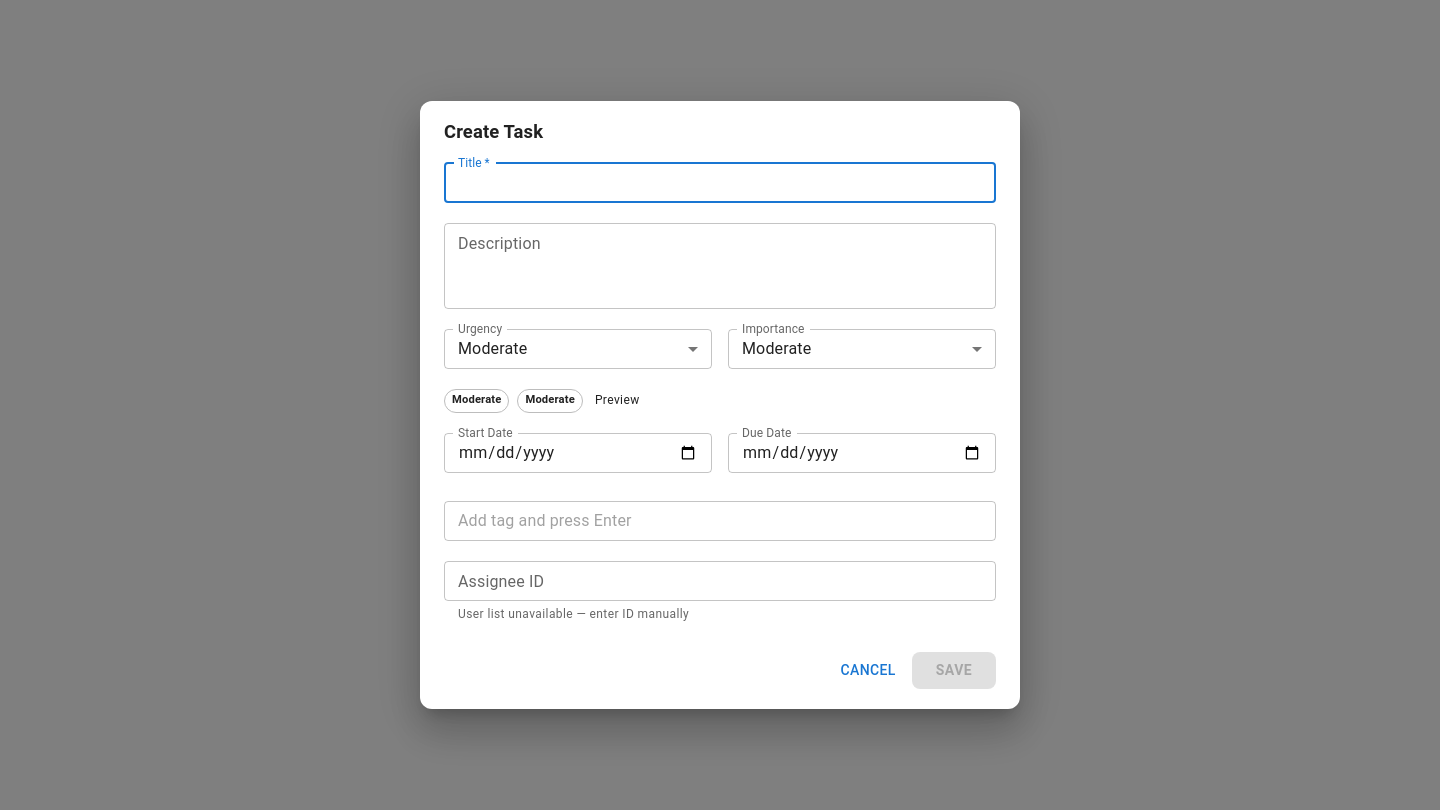
Test: TaskForm › deshabilita submit si title vacío y permite cuando válido
The width and height of the screenshot is (1440, 810).
Expected: the button "Save" is disabled, [912,652,996,689]
Type "X" into the field labelled "Title *" at (720, 182), box [444,162,996,202]
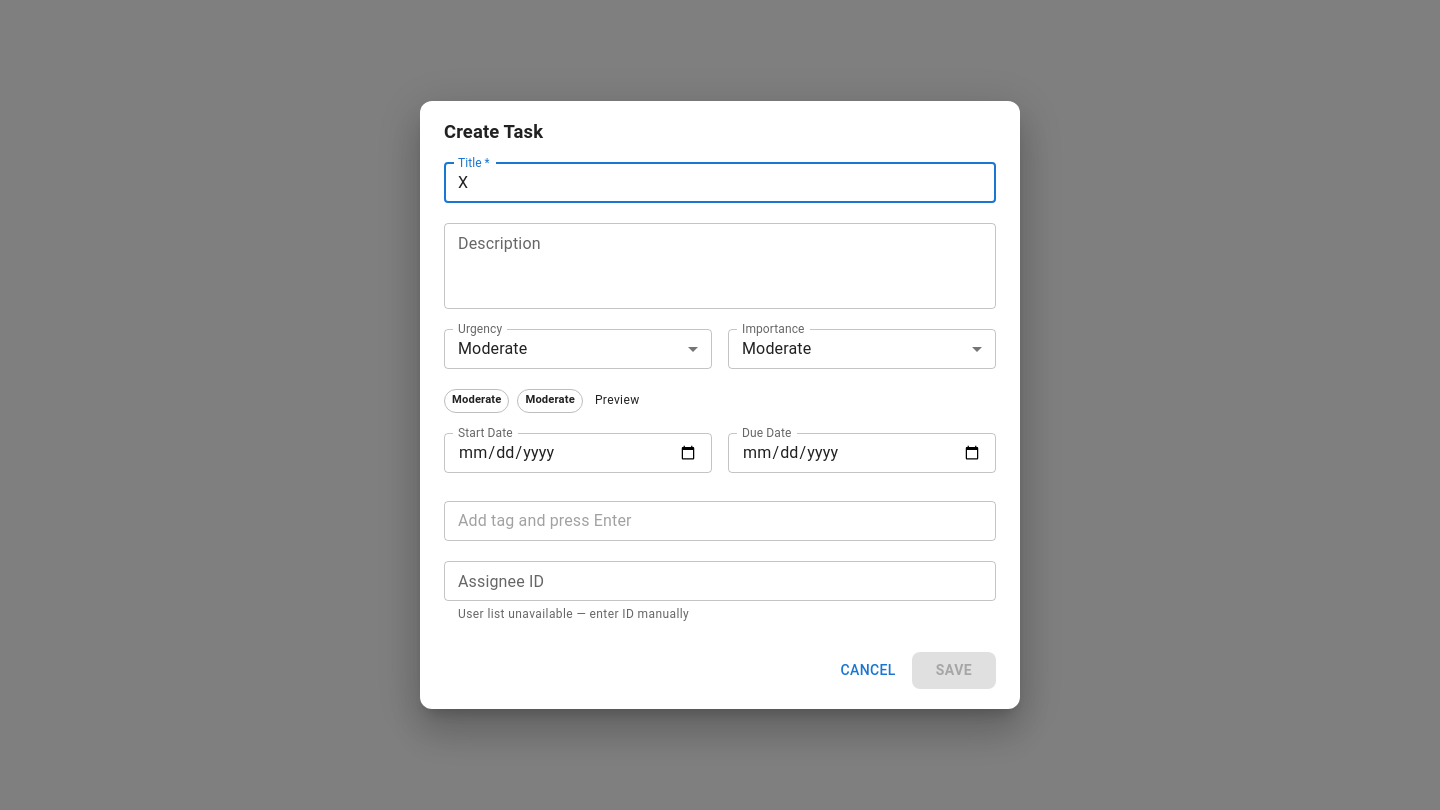
Still disabled until an assignee is chosen (no unassigned tasks)
Type "user-1" into the field labelled "Assignee ID" at (720, 580), box [444,560,996,600]
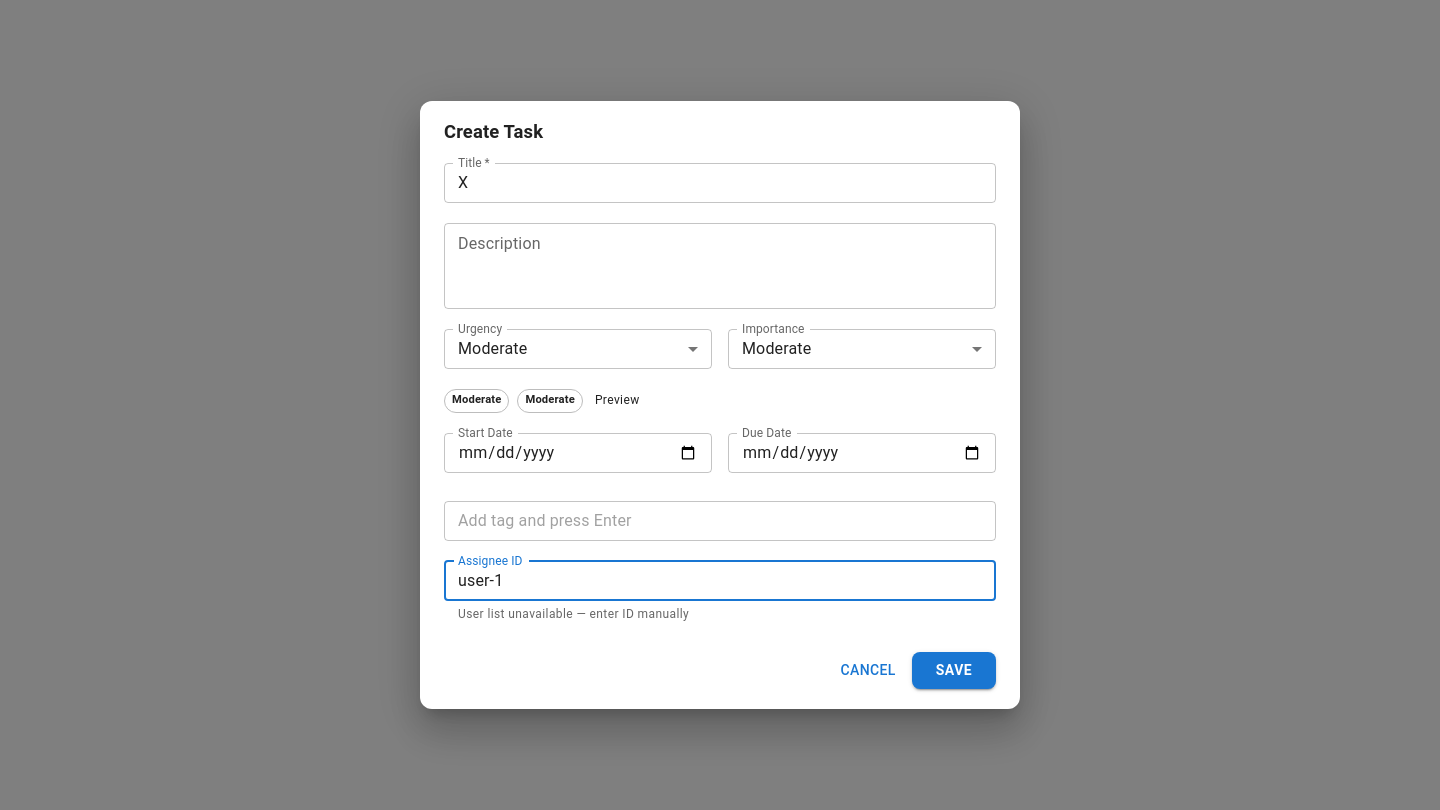
Result: the button "Save" is enabled at [912,652,996,689]
Clear the field labelled "Title *" at (720, 182), box [444,162,996,202]
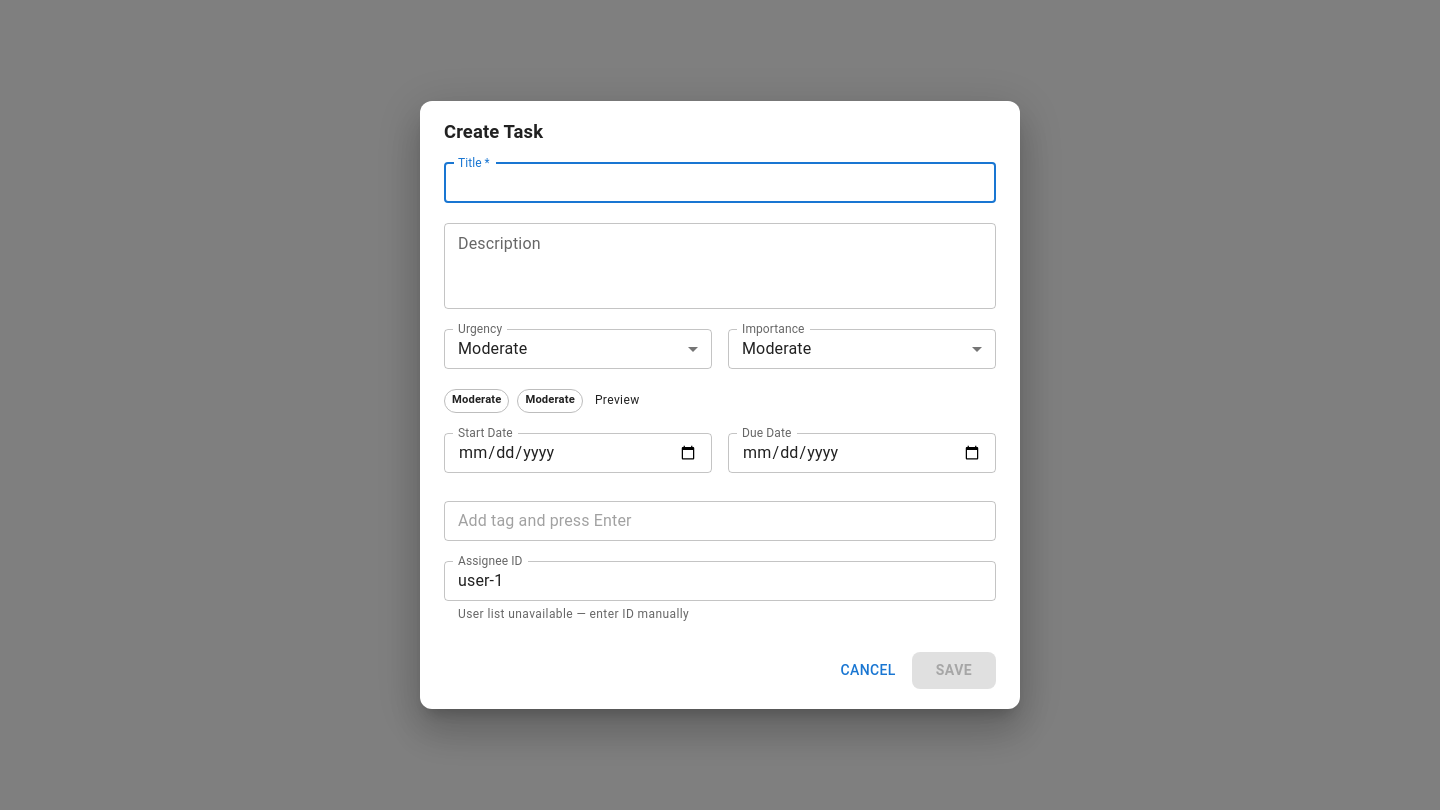
Result: the button "Save" is disabled at [912,652,996,689]
